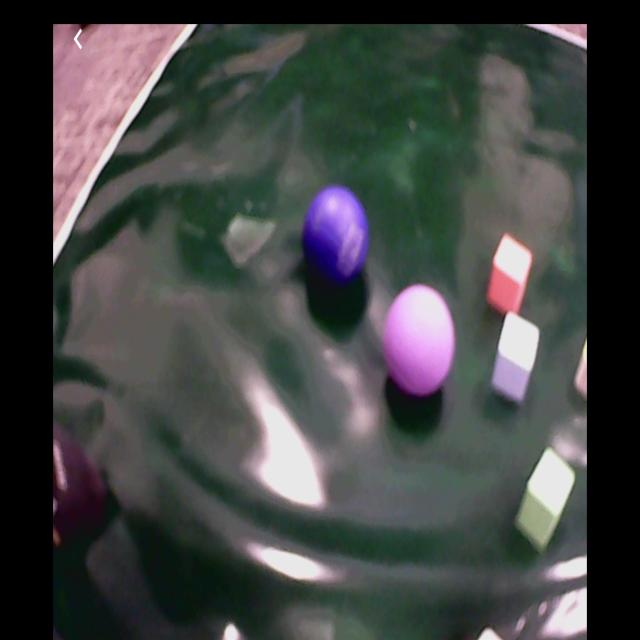ball: (384, 285, 457, 396), (303, 186, 368, 281)
